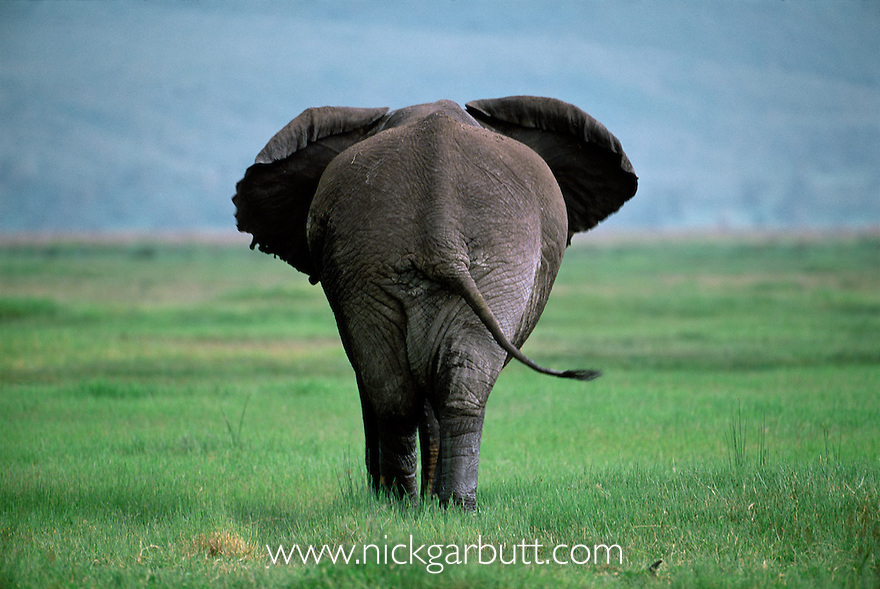elephant: (227, 86, 635, 505)
